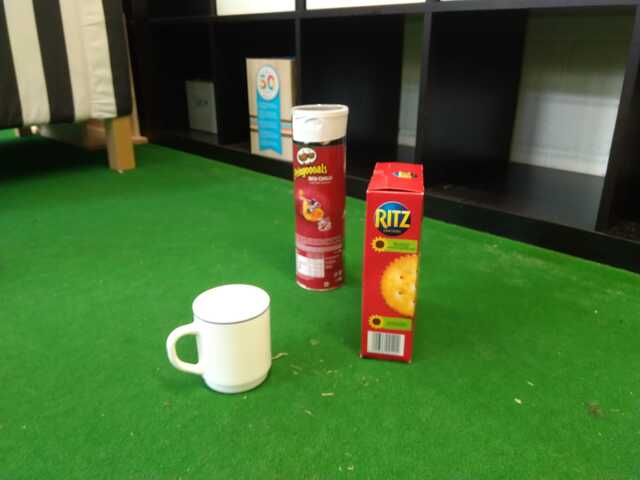001_chips_can: (290, 102, 348, 288)
003_cracker_box: (360, 161, 426, 364)
025_mug: (164, 282, 275, 394)
